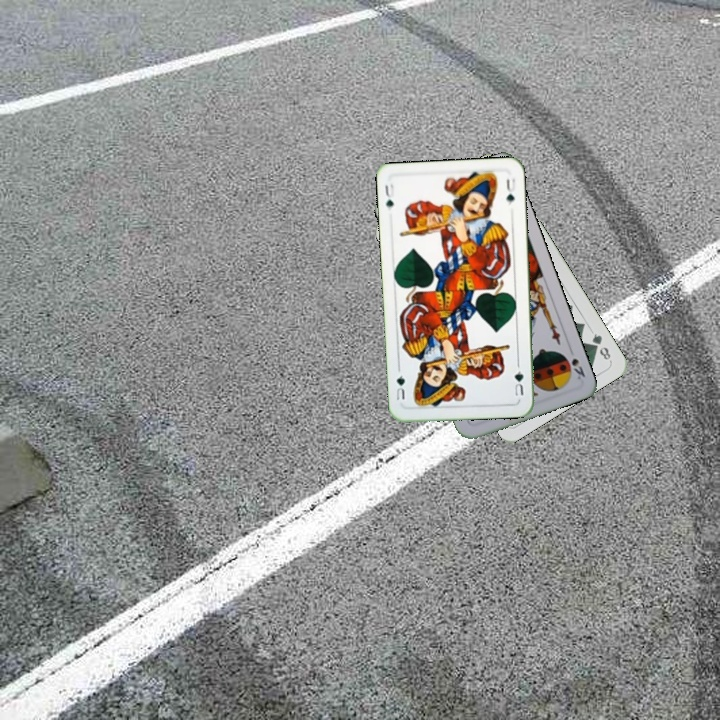G8: (588, 329, 613, 364)
GU: (511, 360, 526, 398), (381, 179, 397, 213)
SK: (567, 354, 588, 382)
